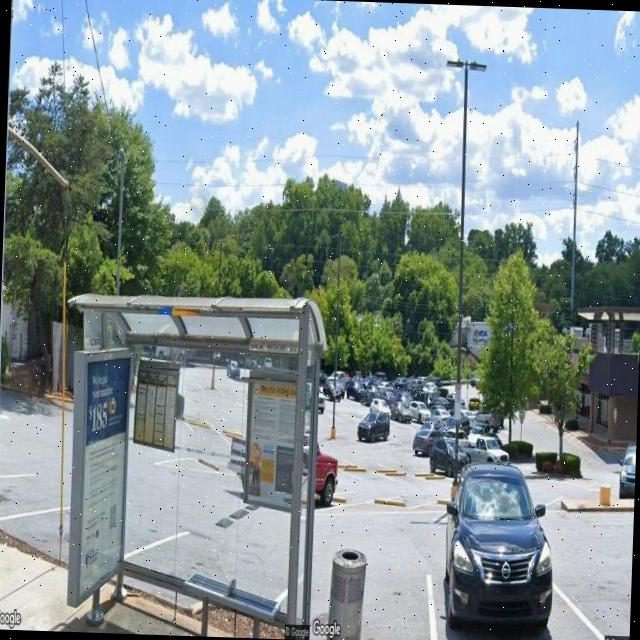seating: (181, 564, 282, 638)
shelter: (54, 289, 330, 640)
trash_can: (327, 547, 368, 640)
